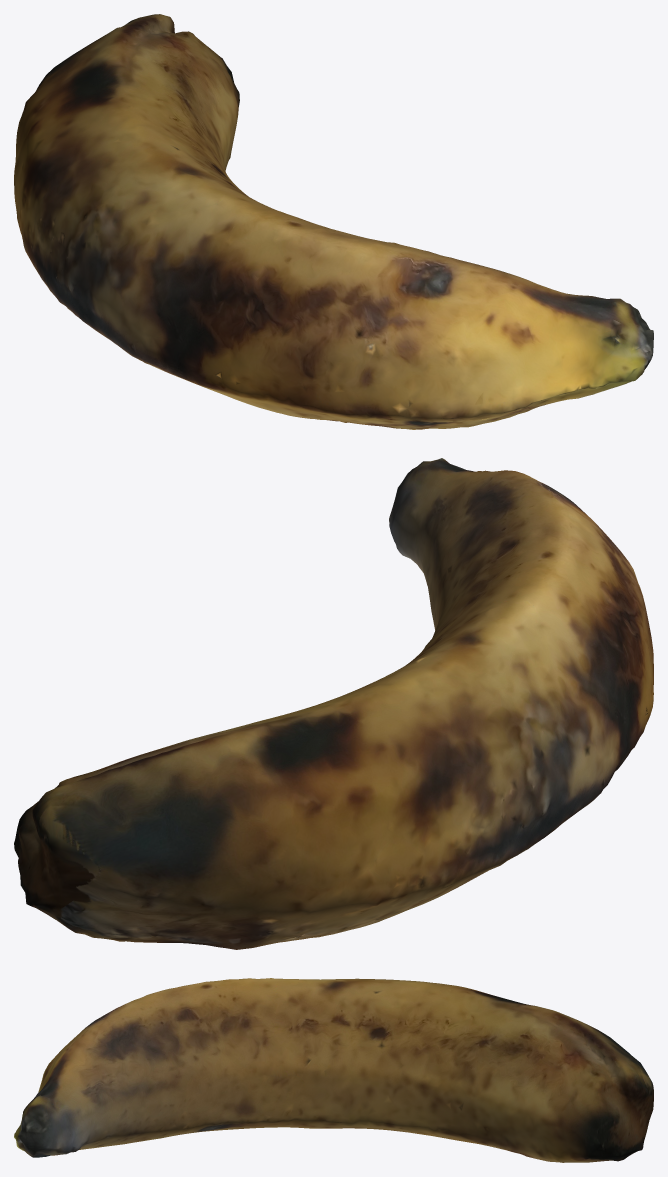
The model's file is banana_3.glb.
The picture shows the model from 3 angles, top to bottom: view 1: azimuth 30°, elevation 25°; view 2: azimuth 150°, elevation 25°; view 3: azimuth 270°, elevation 25°; orthographic projection. The views are drawn at different scales.
Parts seen in each view (by area): view 1: Banana.001; view 2: Banana.001; view 3: Banana.001.
Boxes of the visible parts, x1=… form: Banana.001: x1=14, y1=14, x2=653, y2=429; Banana.001: x1=14, y1=458, x2=653, y2=949; Banana.001: x1=14, y1=978, x2=653, y2=1162.
Bounding box in the file's own units: 0.0759 × 0.0409 × 0.1608.
1 material, 1 textured.
